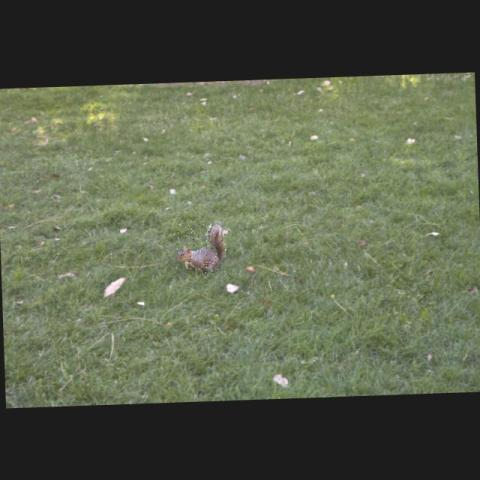small_animal: (174, 220, 230, 274)
